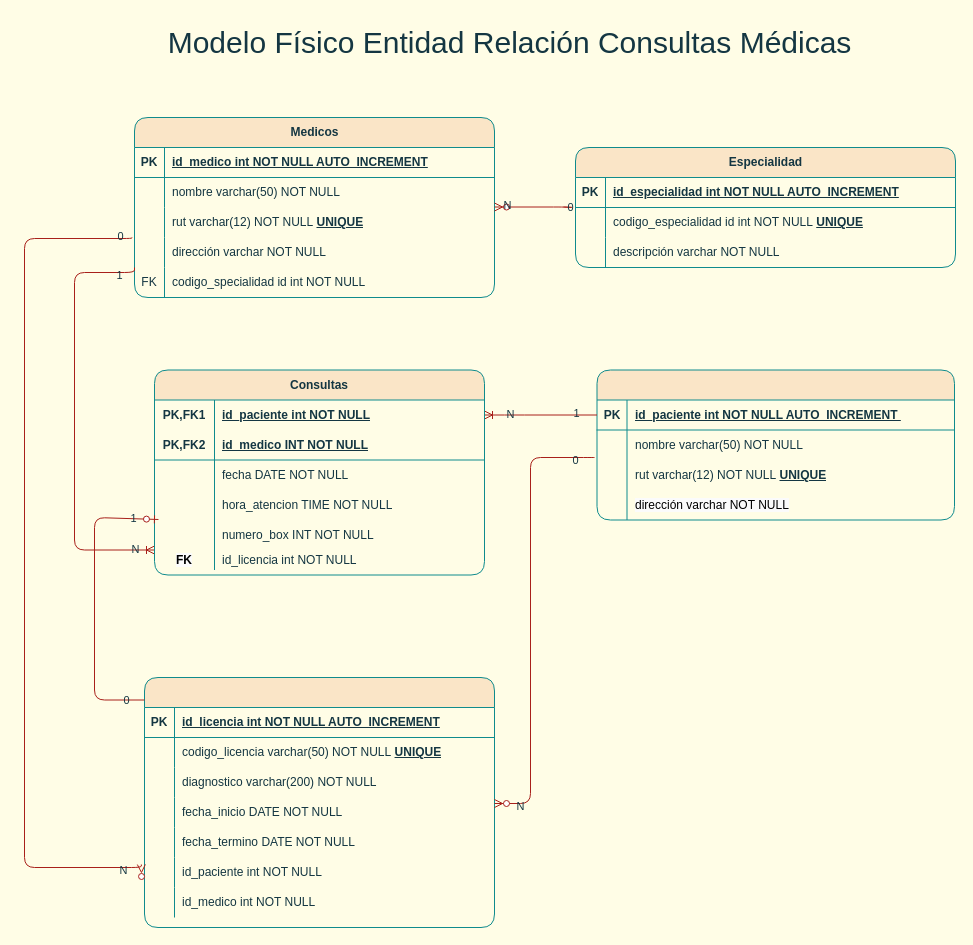
This 973x945 diagram has some shape labels left out. The box of each missing label's shape, as (x1, y1, x2, y2) in pixels:
Licencias: (144, 676, 494, 928)
Pacientes: (596, 369, 954, 520)
